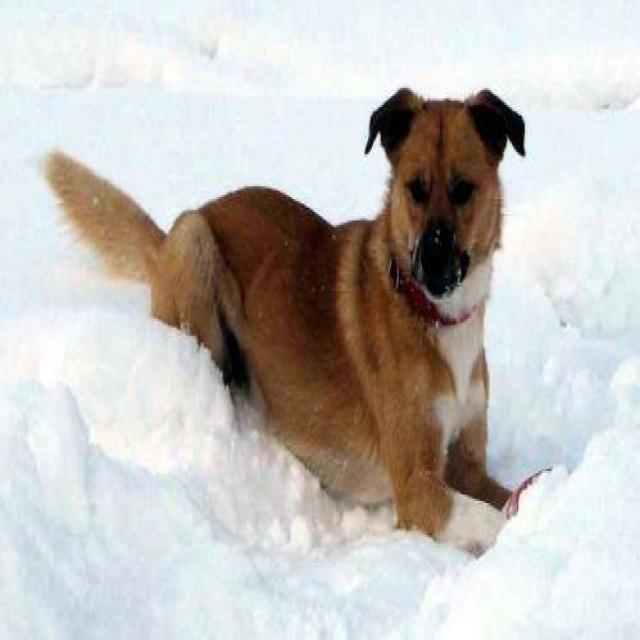dog: (42, 84, 527, 556)
